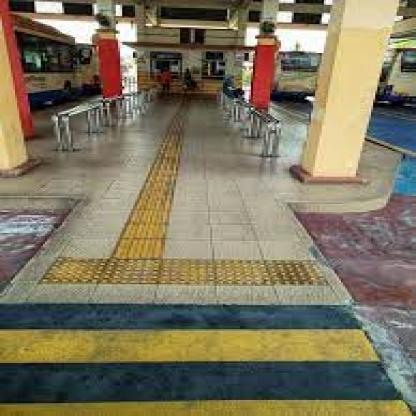podotacti: (35, 75, 343, 289)
